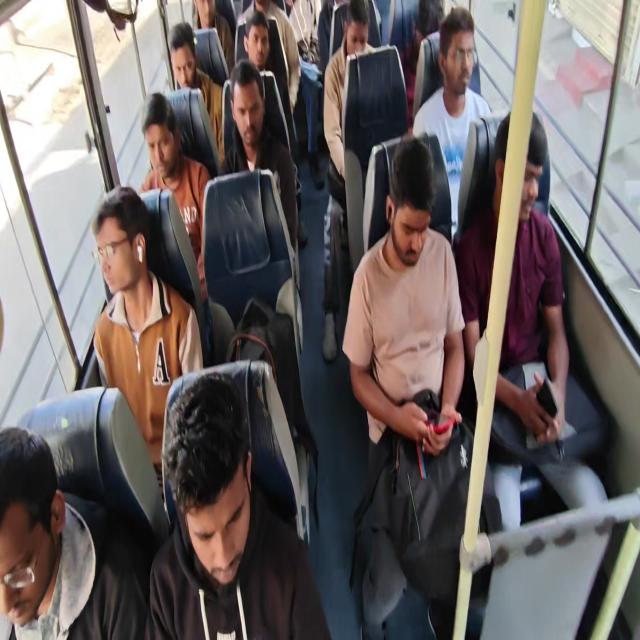person: (94, 172, 192, 390), (156, 381, 265, 552), (381, 164, 495, 306), (480, 117, 588, 245), (0, 436, 66, 640), (444, 28, 519, 130), (130, 71, 200, 175), (216, 78, 279, 166), (291, 0, 329, 67), (340, 6, 381, 67), (168, 22, 202, 76), (407, 0, 444, 38), (241, 15, 270, 63), (192, 0, 218, 27), (246, 0, 272, 16)
